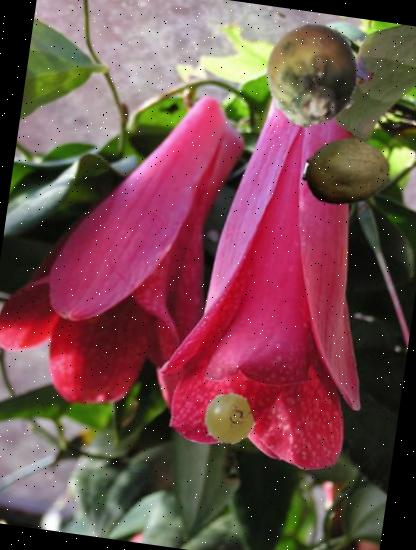Cactus: (256, 18, 370, 131)
Grape: (200, 390, 258, 448)
Papaya: (299, 125, 395, 221)
